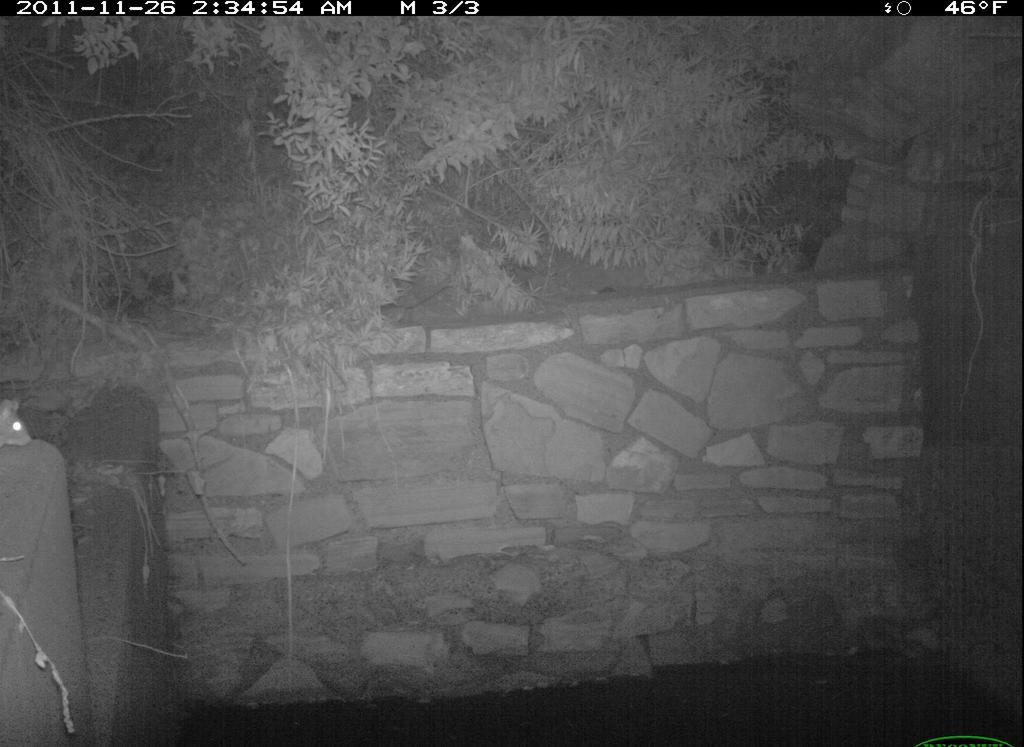rodent: (1, 391, 43, 464)
